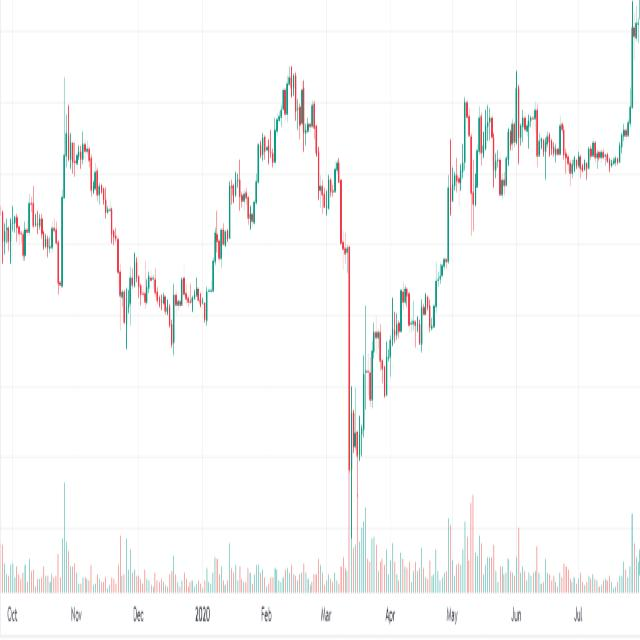Head-Shoulders: (250, 53, 353, 315)
Rounding-Bottom: (71, 105, 279, 358)
